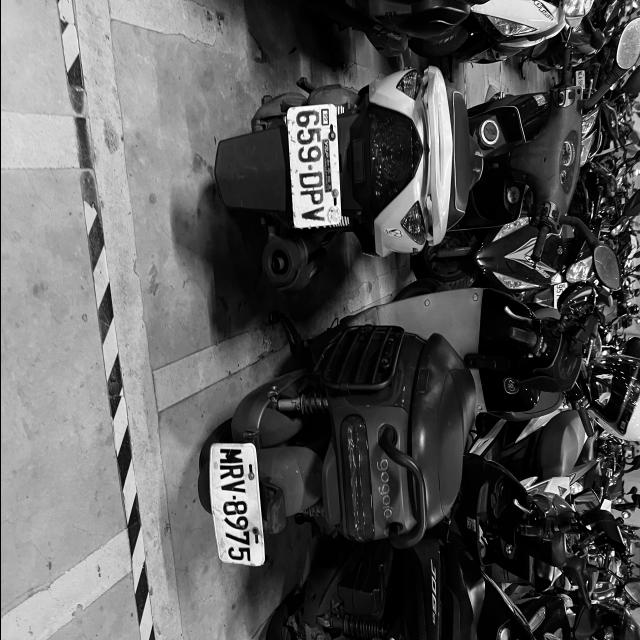-: (307, 164, 314, 172), (230, 495, 237, 501)
5: (296, 127, 322, 145), (226, 546, 252, 562)
6: (294, 109, 321, 129)
7: (224, 530, 250, 546)
8: (222, 500, 248, 516)
9: (296, 145, 321, 165), (224, 516, 248, 530)
D: (298, 170, 322, 190)
M: (220, 448, 242, 463)
P: (300, 188, 323, 206)
R: (219, 464, 243, 481)
V: (300, 206, 326, 223), (220, 480, 246, 496)
plate: (291, 105, 335, 227), (213, 448, 255, 564)
